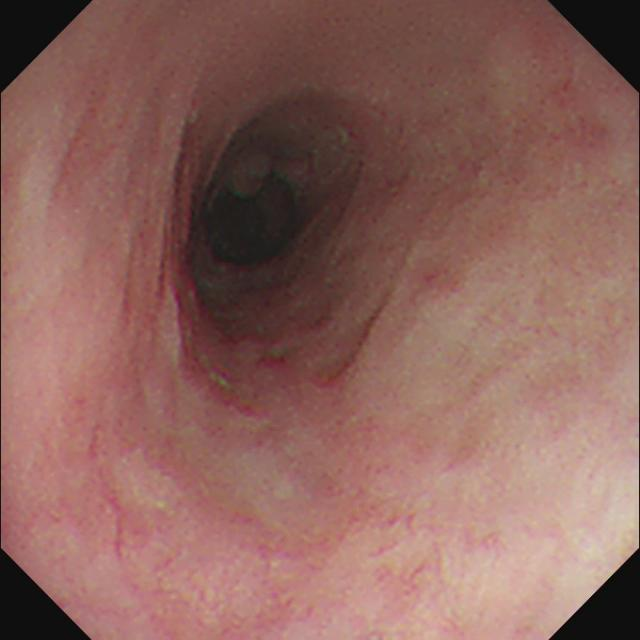A: (170, 290, 382, 412), (100, 473, 130, 562)
E: (211, 177, 296, 266)
